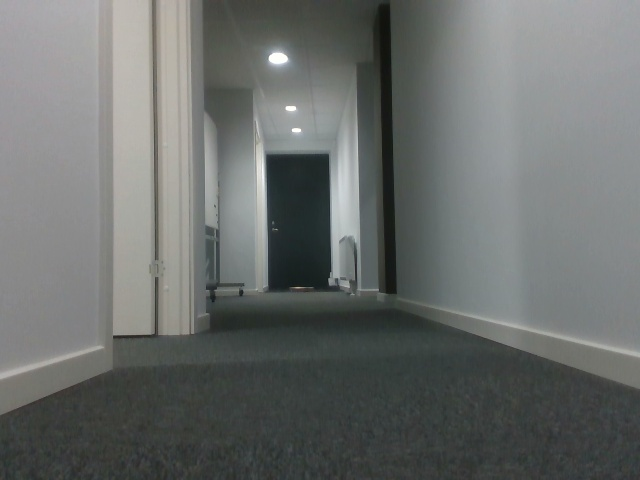alfa: (297, 292, 405, 397)
